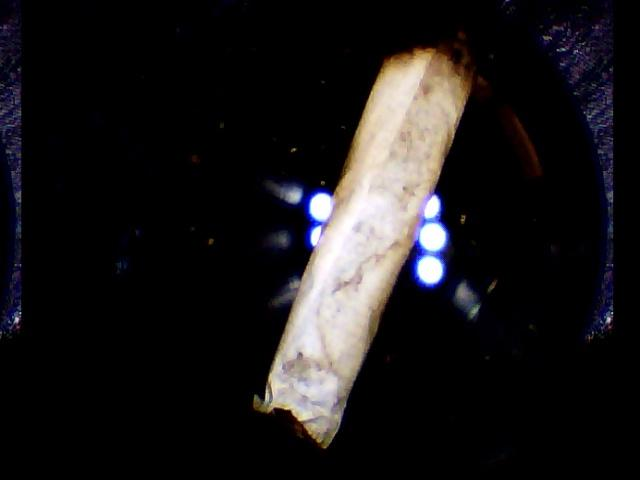megot: (242, 30, 484, 455)
